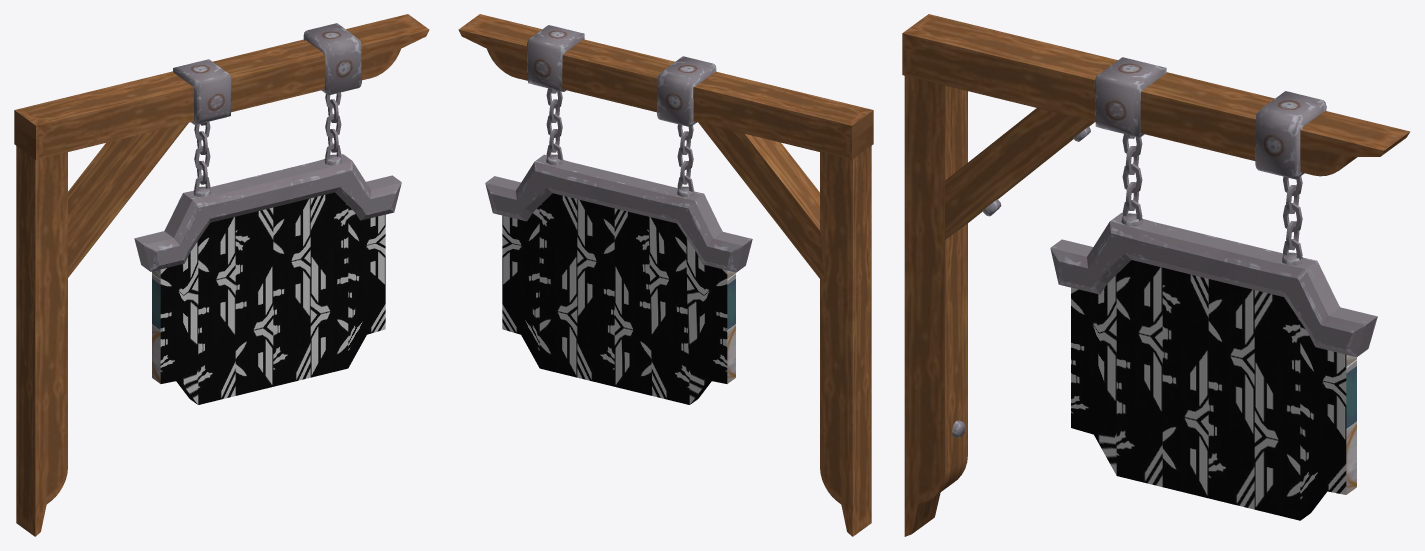
The model's file is Sign_Pub.gltf.
The picture shows the model from 3 angles, left to right: view 1: azimuth 30°, elevation 25°; view 2: azimuth 150°, elevation 25°; view 3: azimuth 330°, elevation 25°; orthographic projection. The views are drawn at different scales.
Parts seen in each view (by area): view 1: Sign_Pub; view 2: Sign_Pub; view 3: Sign_Pub.
Part boxes in pixels (bbox=[...]): Sign_Pub: bbox=[14, 14, 429, 536]; Sign_Pub: bbox=[458, 14, 873, 536]; Sign_Pub: bbox=[902, 14, 1410, 536].
Bounding box in the file's own units: 1.21 × 1.24 × 0.1429.
Materials: 3 (3 with a texture image).
